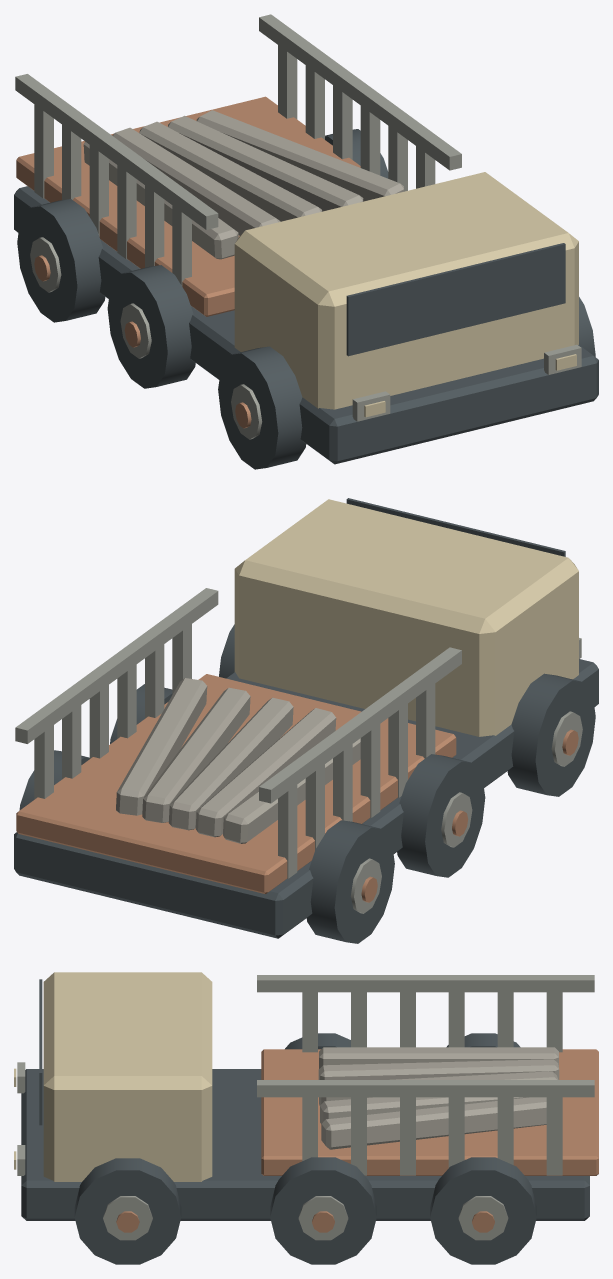
File: waste_hauler.glb
3 renders of one model, top to bottom at view 1: azimuth 30°, elevation 25°; view 2: azimuth 150°, elevation 25°; view 3: azimuth 270°, elevation 25°, orthographic. The views are drawn at different scales.
Visible parts, largest first — view 1: paint, blacksteel, blacksteel.001, rust.003, blacksteel.006, blacksteel.004, blacksteel.008, duststeel.014, duststeel.021, concrete.002, concrete.003, concrete.004 (+20 smaller); view 2: paint, rust.003, blacksteel, blacksteel.006, blacksteel.004, blacksteel.008, duststeel.021, duststeel.014, concrete.002, concrete.003, concrete.004, concrete.001 (+18 smaller); view 3: paint, blacksteel, rust.003, blacksteel.005, blacksteel.007, blacksteel.009, duststeel.014, duststeel.021, concrete.004, concrete, concrete.001, concrete.003 (+22 smaller).
Boxes of the visible parts, box(x1,y1,x2,y2) form: paint: box(234, 172, 578, 409); blacksteel: box(14, 186, 598, 464); blacksteel.001: box(346, 243, 565, 356); rust.003: box(16, 96, 360, 316); blacksteel.006: box(107, 265, 195, 388); blacksteel.004: box(17, 199, 105, 322); blacksteel.008: box(218, 346, 306, 469); duststeel.014: box(15, 74, 218, 229); duststeel.021: box(259, 14, 461, 170); concrete.002: box(139, 121, 322, 221); concrete.003: box(168, 115, 363, 211); concrete.004: box(196, 110, 404, 201); paint: box(234, 499, 578, 736); rust.003: box(16, 674, 456, 894); blacksteel: box(14, 659, 598, 938); blacksteel.006: box(397, 754, 485, 877); blacksteel.004: box(306, 820, 394, 943); blacksteel.008: box(507, 673, 595, 796); duststeel.021: box(15, 588, 218, 743); duststeel.014: box(259, 647, 461, 803); concrete.002: box(168, 697, 293, 830); concrete.003: box(142, 687, 250, 822); concrete.004: box(116, 678, 207, 815); concrete.001: box(195, 708, 336, 837); paint: box(43, 972, 212, 1181); blacksteel: box(21, 1069, 589, 1220); rust.003: box(261, 1049, 598, 1175); blacksteel.005: box(430, 1157, 536, 1264); blacksteel.007: box(270, 1157, 376, 1264); blacksteel.009: box(74, 1158, 181, 1264); duststeel.014: box(257, 975, 594, 992); duststeel.021: box(257, 1080, 594, 1097); concrete.004: box(321, 1097, 546, 1149); concrete: box(319, 1047, 558, 1068); concrete.001: box(318, 1059, 559, 1079); concrete.003: box(320, 1097, 528, 1123).
Bounding box in the file's own units: 3.8 × 2.13 × 6.58.
